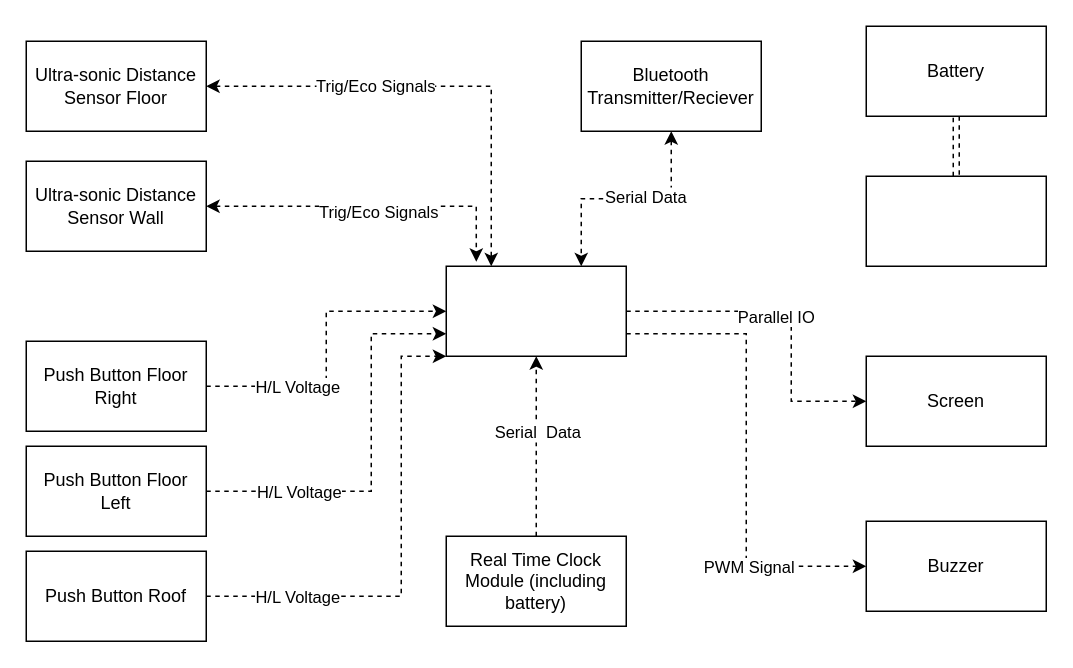
Image size: 1073x668. Some labels were removed from this diagram. Each missing label, with the box of its shape:
Battery Charge Control Circuitry: (865, 175, 1046, 266)
MCU: (445, 265, 626, 356)
